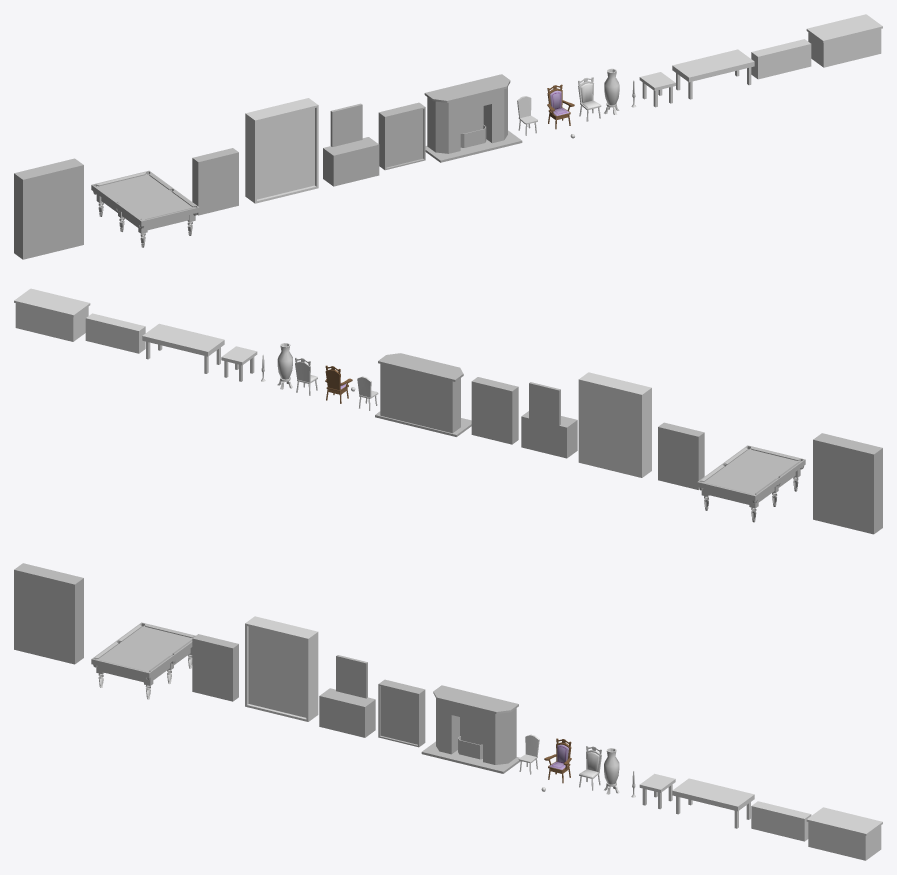
File: GS_ENV_SA_Pack_1.FBX
3 views of the same model, one above another, from view 1: azimuth 30°, elevation 25°; view 2: azimuth 150°, elevation 25°; view 3: azimuth 330°, elevation 25° (orthographic).
Parts seen in each view (by area): view 1: SA_L_Bookshelf, SA_Cabinet_002, SA_Fireplace_1, SA_Snooker_Table, SA_Dresser_1, SA_Desk_A, SA_BooKShelf_1, SA_Cabinet_1, SA_Table_l, SA_Shelf_A, SA_Table_S, SA_Chair_W_Arms (+1 smaller); view 2: SA_L_Bookshelf, SA_Cabinet_002, SA_Fireplace_1, SA_Snooker_Table, SA_Dresser_1, SA_Desk_A, SA_BooKShelf_1, SA_Cabinet_1, SA_Table_l, SA_Shelf_A, SA_Table_S, SA_Chair_W_Arms; view 3: SA_L_Bookshelf, SA_Cabinet_002, SA_Fireplace_1, SA_Snooker_Table, SA_Dresser_1, SA_Desk_A, SA_BooKShelf_1, SA_Cabinet_1, SA_Table_l, SA_Shelf_A, SA_Table_S, SA_Chair_W_Arms.
Part boxes in pixels (x1,y1,x2,y2): SA_L_Bookshelf: [245, 98, 318, 203]; SA_Cabinet_002: [14, 158, 83, 259]; SA_Fireplace_1: [424, 74, 522, 162]; SA_Snooker_Table: [91, 170, 199, 247]; SA_Dresser_1: [323, 103, 379, 186]; SA_Desk_A: [806, 14, 882, 67]; SA_BooKShelf_1: [378, 102, 425, 170]; SA_Cabinet_1: [192, 148, 238, 215]; SA_Table_l: [672, 49, 754, 99]; SA_Shelf_A: [751, 39, 811, 79]; SA_Table_S: [639, 72, 675, 107]; SA_Chair_W_Arms: [547, 84, 574, 129]; SA_L_Bookshelf: [578, 372, 651, 477]; SA_Cabinet_002: [813, 433, 882, 534]; SA_Fireplace_1: [375, 353, 471, 436]; SA_Snooker_Table: [697, 445, 805, 522]; SA_Dresser_1: [521, 382, 577, 458]; SA_Desk_A: [14, 288, 90, 341]; SA_BooKShelf_1: [471, 377, 518, 444]; SA_Cabinet_1: [658, 422, 704, 489]; SA_Table_l: [142, 323, 224, 373]; SA_Shelf_A: [85, 313, 145, 353]; SA_Table_S: [221, 346, 257, 381]; SA_Chair_W_Arms: [325, 365, 352, 403]; SA_L_Bookshelf: [245, 616, 318, 721]; SA_Cabinet_002: [14, 563, 83, 664]; SA_Fireplace_1: [421, 685, 520, 773]; SA_Snooker_Table: [91, 622, 195, 699]; SA_Dresser_1: [319, 655, 375, 737]; SA_Desk_A: [806, 807, 882, 860]; SA_BooKShelf_1: [378, 679, 425, 747]; SA_Cabinet_1: [192, 634, 238, 701]; SA_Table_l: [672, 778, 754, 828]; SA_Shelf_A: [751, 801, 811, 841]; SA_Table_S: [639, 773, 675, 809]; SA_Chair_W_Arms: [544, 738, 571, 783].
Bounding box in the file's own units: 487 × 46.77 × 49.58.
